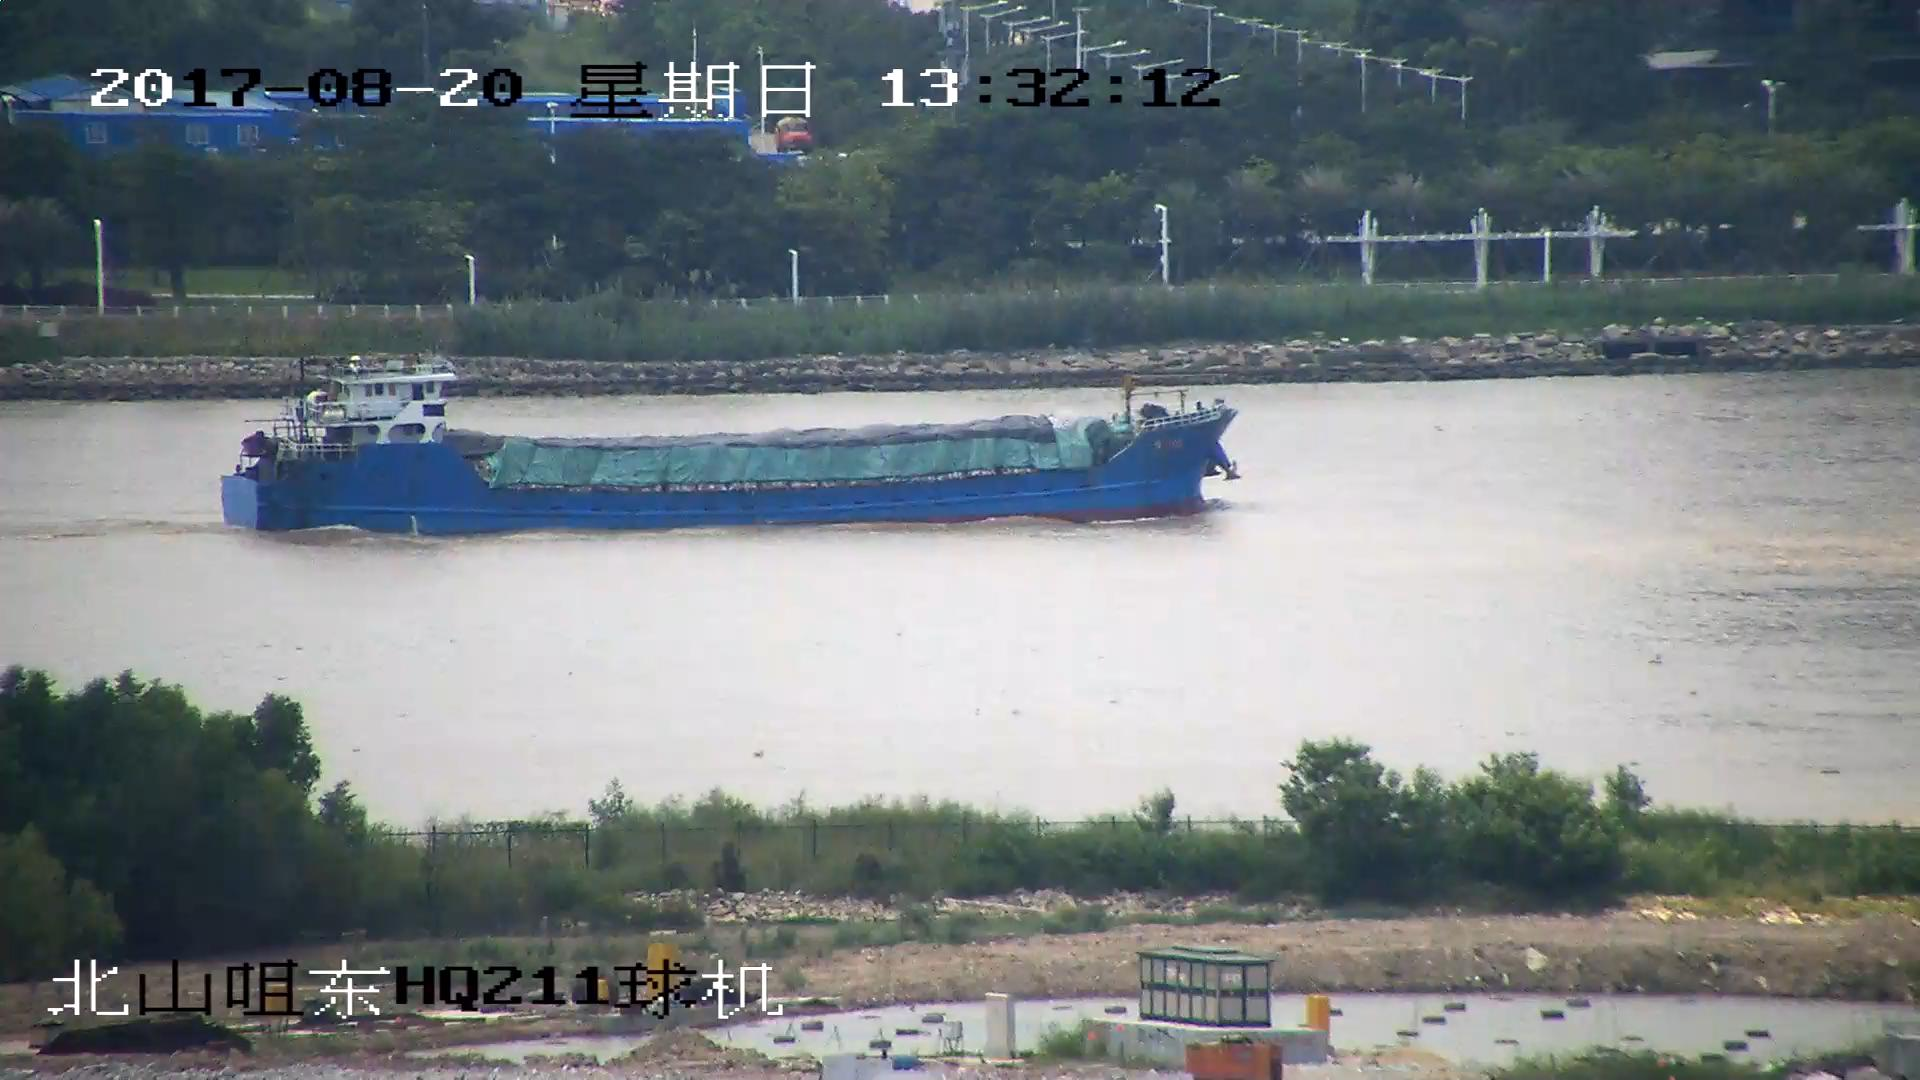general cargo ship: (219, 358, 1247, 536)
